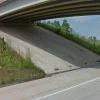Bridge: (3, 0, 90, 25)
